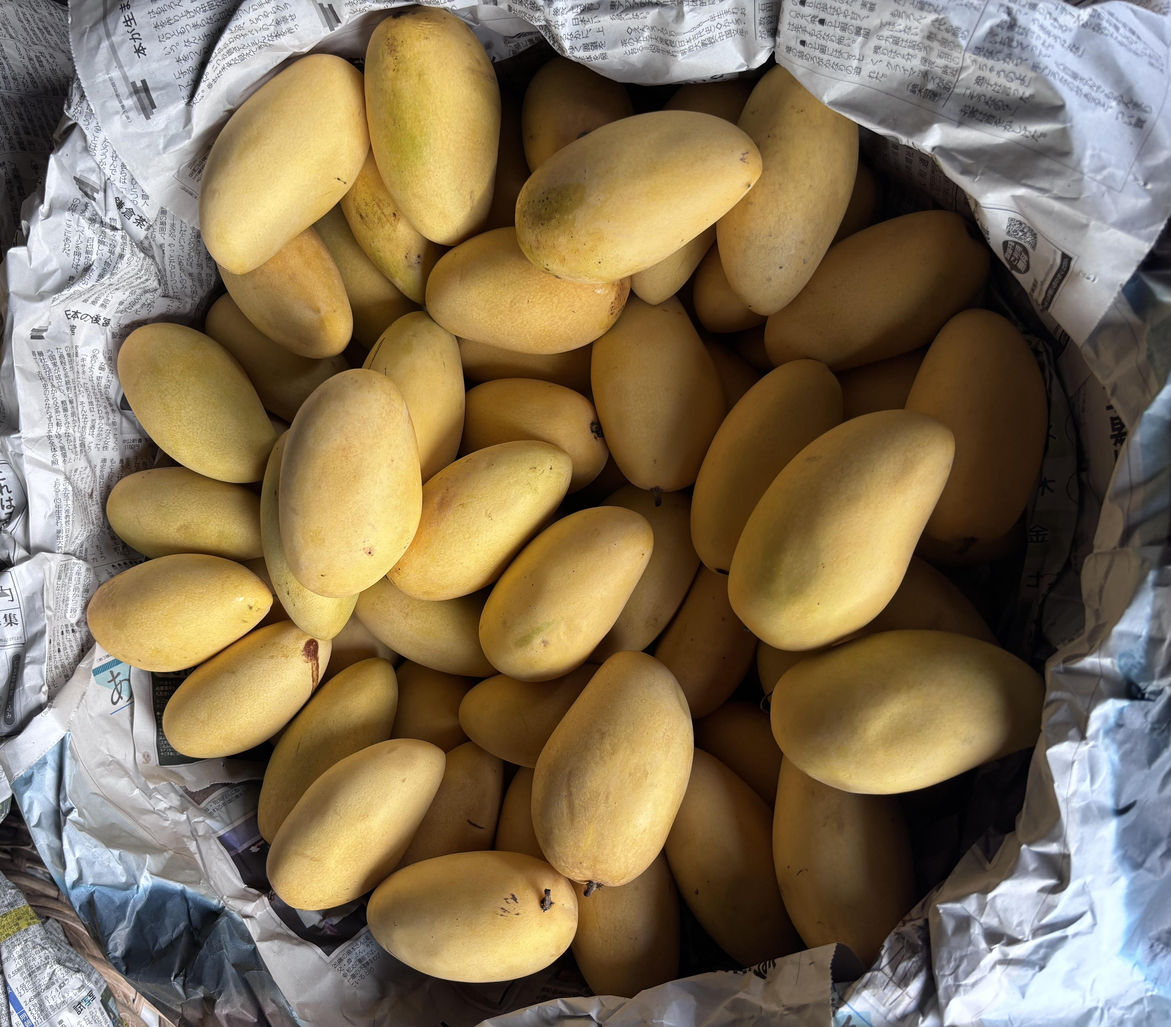mango: (729, 410, 954, 650), (772, 630, 1045, 794), (516, 110, 761, 283), (531, 651, 693, 895), (199, 54, 369, 273), (279, 369, 421, 597), (365, 7, 500, 245), (479, 506, 654, 681), (268, 739, 446, 909), (367, 851, 578, 982), (118, 322, 277, 483), (162, 620, 332, 758), (87, 554, 272, 672)
occluded: (764, 210, 991, 371), (717, 65, 858, 315), (905, 309, 1048, 545), (690, 359, 843, 575), (773, 756, 916, 966), (666, 748, 802, 965), (388, 441, 571, 600), (591, 296, 725, 492), (425, 227, 629, 354), (258, 658, 398, 842), (261, 432, 357, 640), (590, 485, 700, 664), (205, 293, 348, 423), (217, 228, 352, 358), (363, 312, 465, 483), (459, 378, 608, 492), (654, 564, 757, 718), (572, 851, 679, 997), (341, 150, 442, 303), (313, 205, 417, 349), (106, 466, 262, 560), (459, 664, 599, 768), (354, 577, 497, 678), (396, 742, 503, 869), (852, 557, 998, 644), (522, 57, 633, 171), (695, 698, 782, 808), (390, 661, 477, 752), (458, 338, 592, 395), (631, 224, 716, 305), (837, 346, 928, 420), (693, 243, 765, 333), (323, 613, 400, 682), (494, 768, 546, 858), (704, 338, 761, 418), (757, 640, 821, 695), (736, 322, 771, 366)
